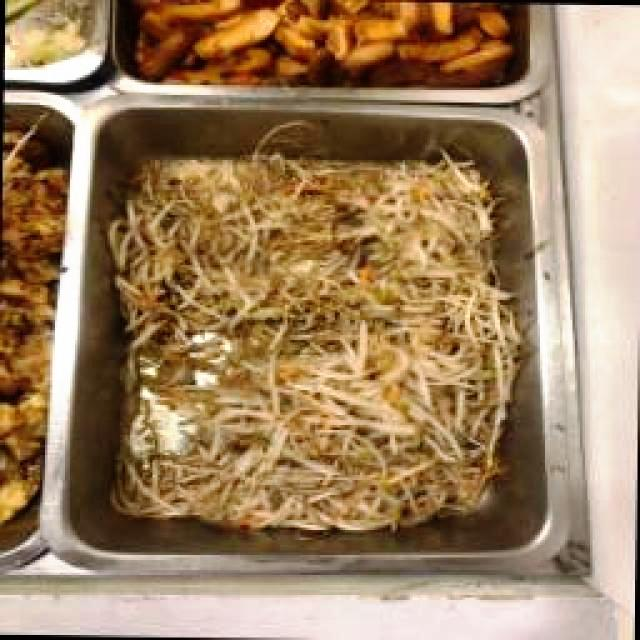mung_bean_sprouts: (131, 164, 494, 514)
